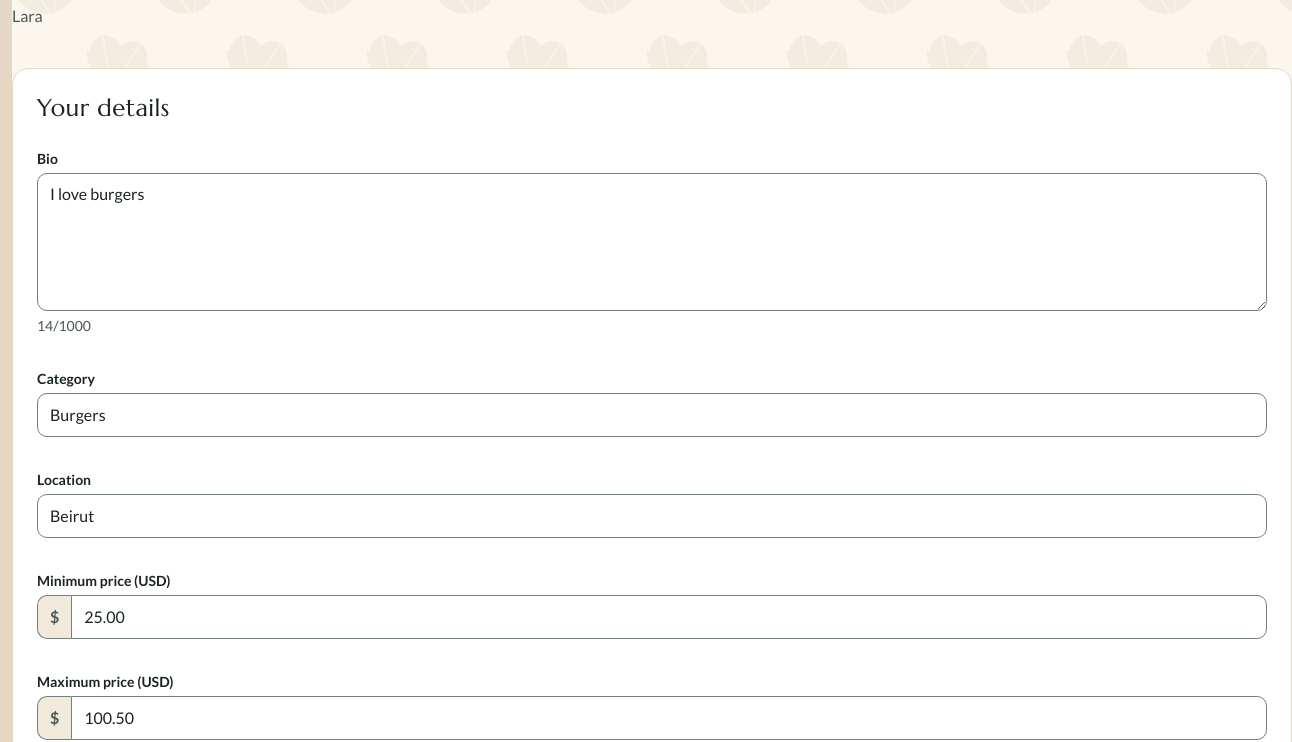
Test: saving the details › does not send anything when a price is not an amount
Replace the text in the field labelled "Minimum price (USD)" with "abc" at (669, 617), box [71, 595, 1267, 639]
(page scrolled)
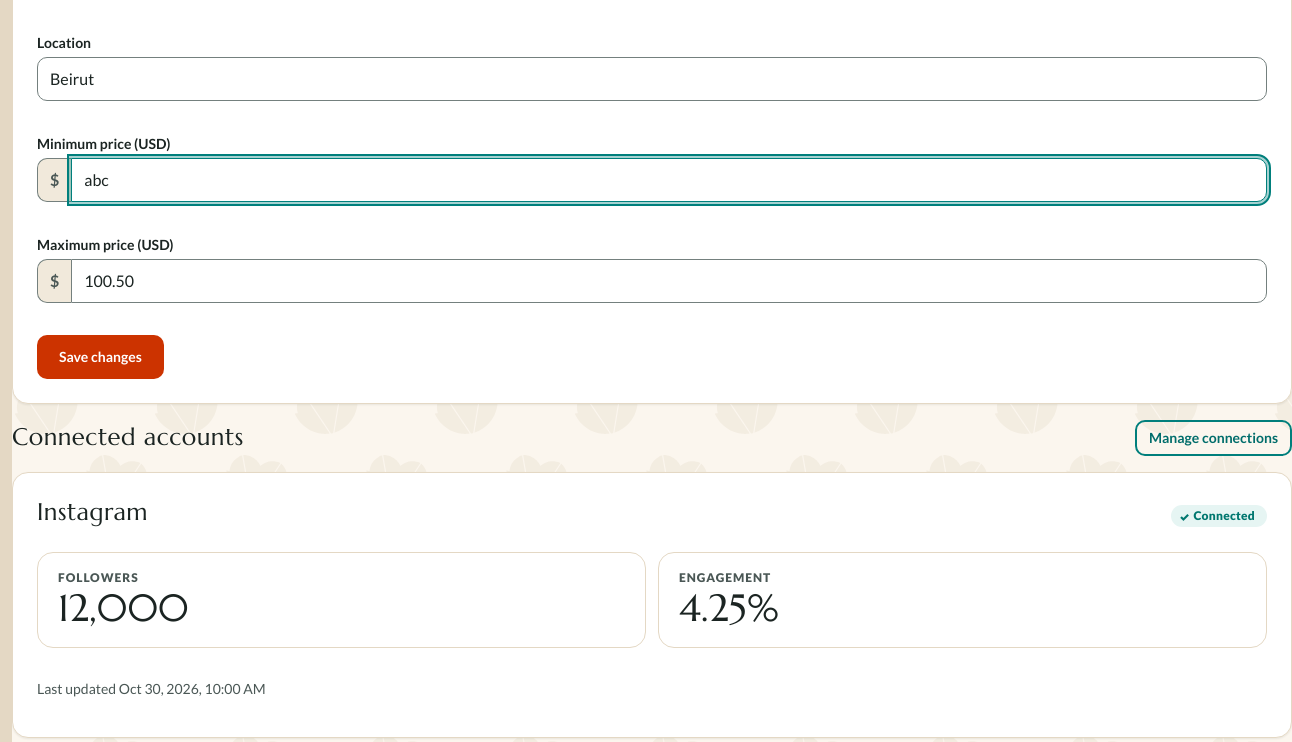
Click the button "Save changes" at (100, 357), box [37, 335, 164, 379]
(page scrolled)
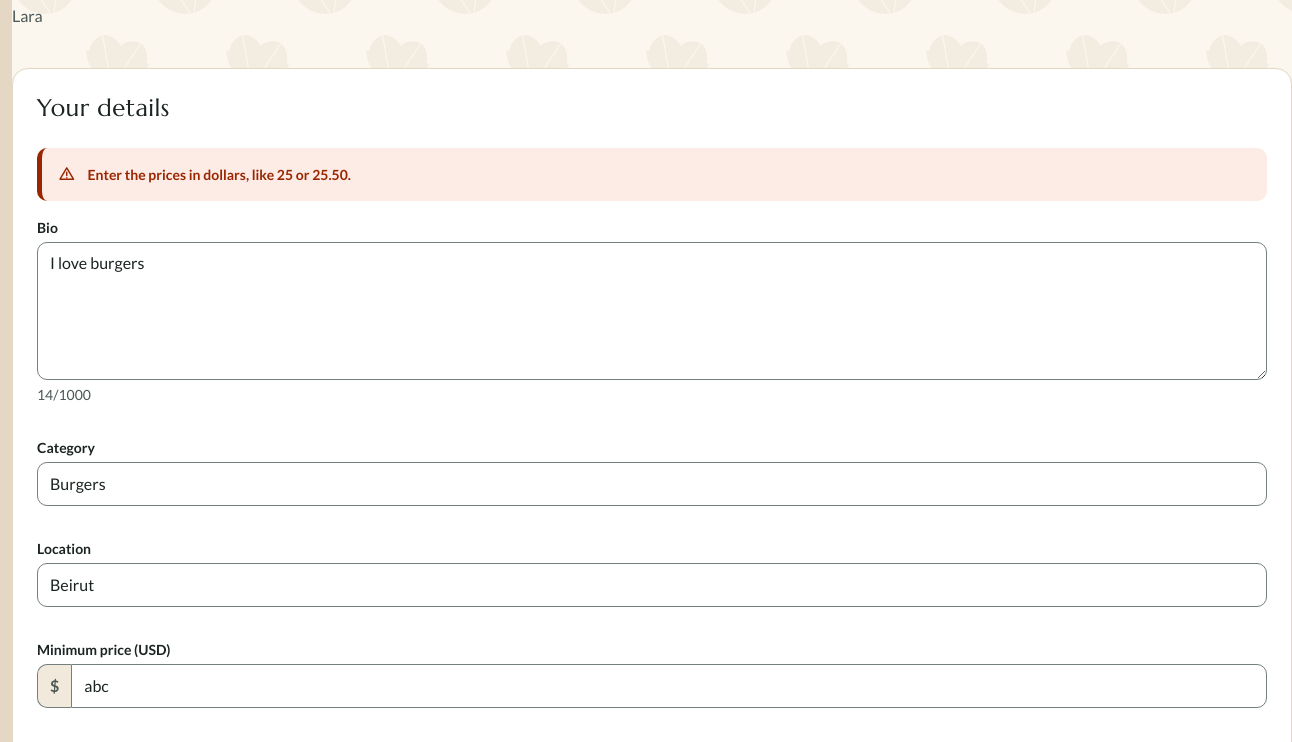
Check: the message shows "Enter the prices in dollars", box [88, 166, 351, 183]
